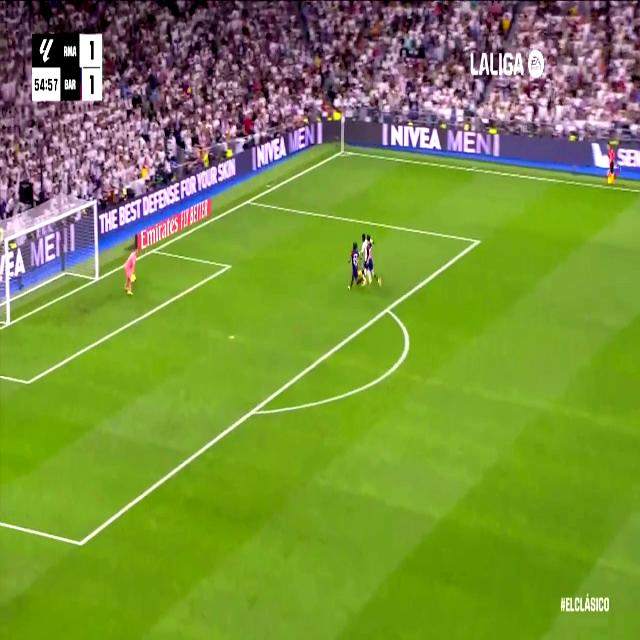bigarea_bottom_inner: (72, 524, 88, 560)
bigarea_top_inner: (471, 229, 483, 253)
bigarea_top_outter: (244, 192, 254, 208)
bottom_arc_area_intersection: (246, 393, 262, 427)
corner: (336, 144, 348, 158)
smallarea_bottom_inner: (22, 370, 34, 394)
smallarea_top_inner: (223, 255, 233, 276)
smallarea_top_outter: (150, 243, 158, 257)
top_arc_area_intersection: (382, 296, 393, 320)
